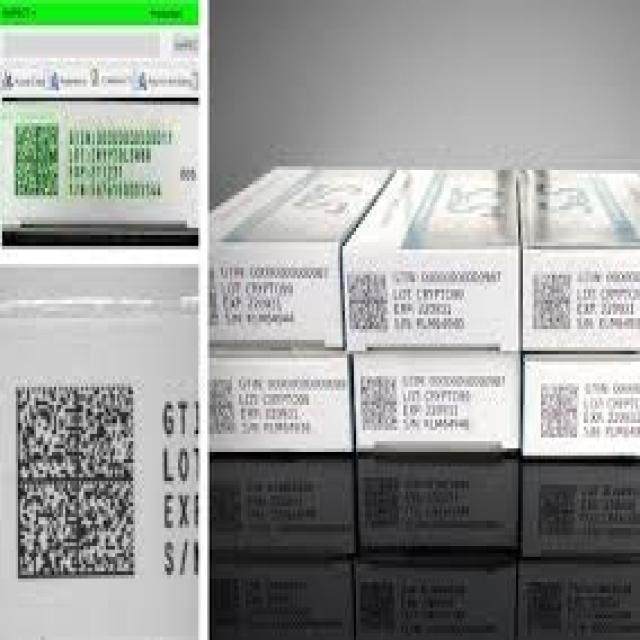datamatrix: (9, 376, 144, 593), (11, 116, 63, 206), (343, 264, 392, 340), (534, 372, 581, 445), (530, 264, 574, 336), (356, 369, 401, 437), (205, 372, 237, 448)
